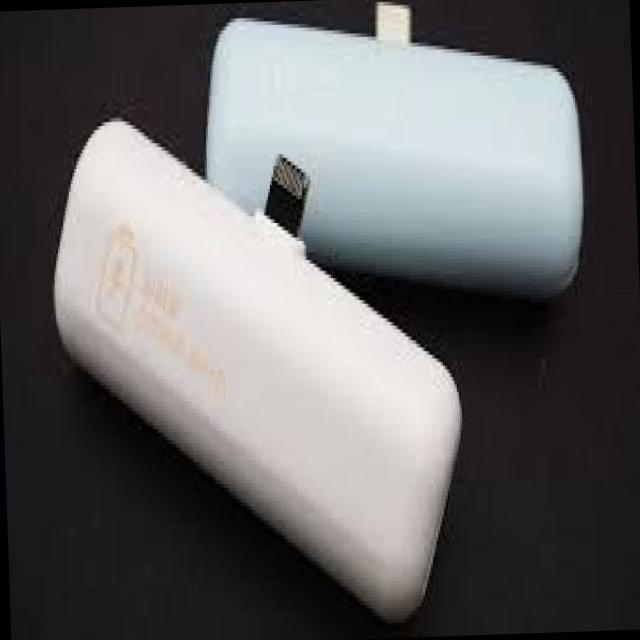power_bank: (47, 96, 470, 630), (192, 0, 589, 306)
